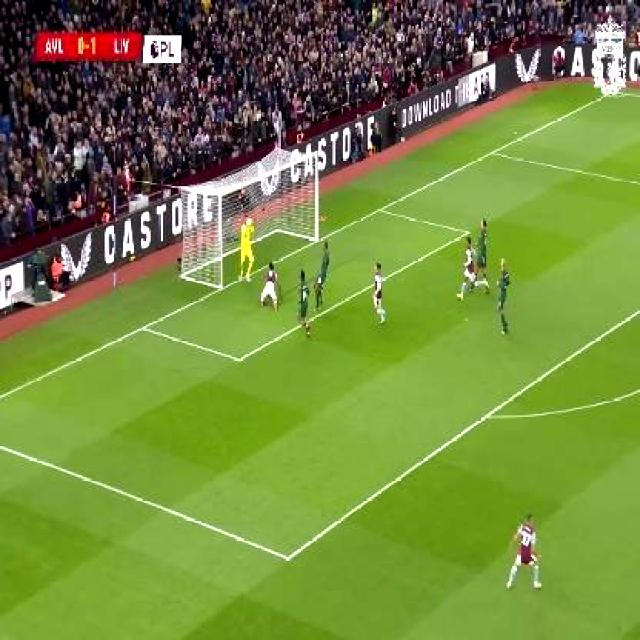bigarea_bottom_inner: (272, 535, 300, 577)
bigarea_top_outter: (486, 143, 499, 160)
bottom_arc_area_intersection: (474, 397, 498, 434)
corner: (604, 88, 618, 99)
smallarea_bottom_inner: (229, 344, 248, 374)
smallarea_bottom_outter: (136, 316, 152, 338)
smallarea_top_inner: (460, 222, 474, 243)
smallarea_top_outter: (371, 200, 386, 220)
